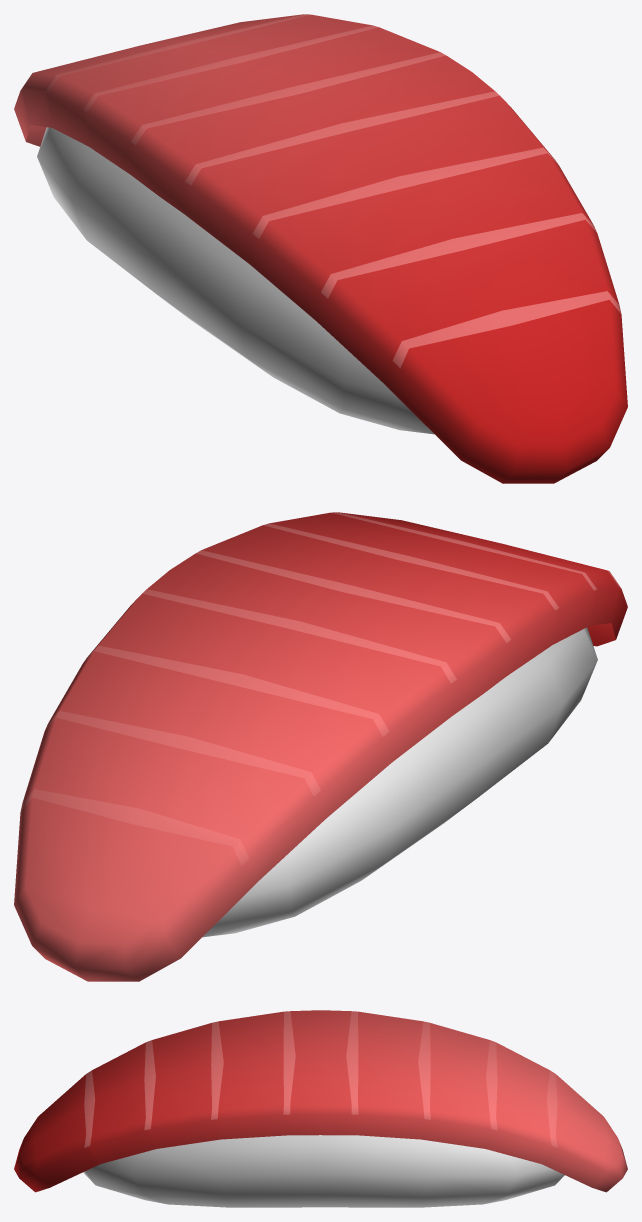
Rendered from Sushi Food_8.fbx.
The picture shows the model from 3 angles, top to bottom: view 1: azimuth 30°, elevation 25°; view 2: azimuth 150°, elevation 25°; view 3: azimuth 270°, elevation 25°; orthographic projection. The views are drawn at different scales.
Parts seen in each view (by area): view 1: Sushi Food_8; view 2: Sushi Food_8; view 3: Sushi Food_8.
Boxes of the visible parts, box(x1,y1,x2,y2) form: Sushi Food_8: box(14, 14, 627, 483); Sushi Food_8: box(14, 512, 627, 981); Sushi Food_8: box(14, 1010, 627, 1207).
Bounding box in the file's own units: 0.0448 × 0.0271 × 0.1116.
